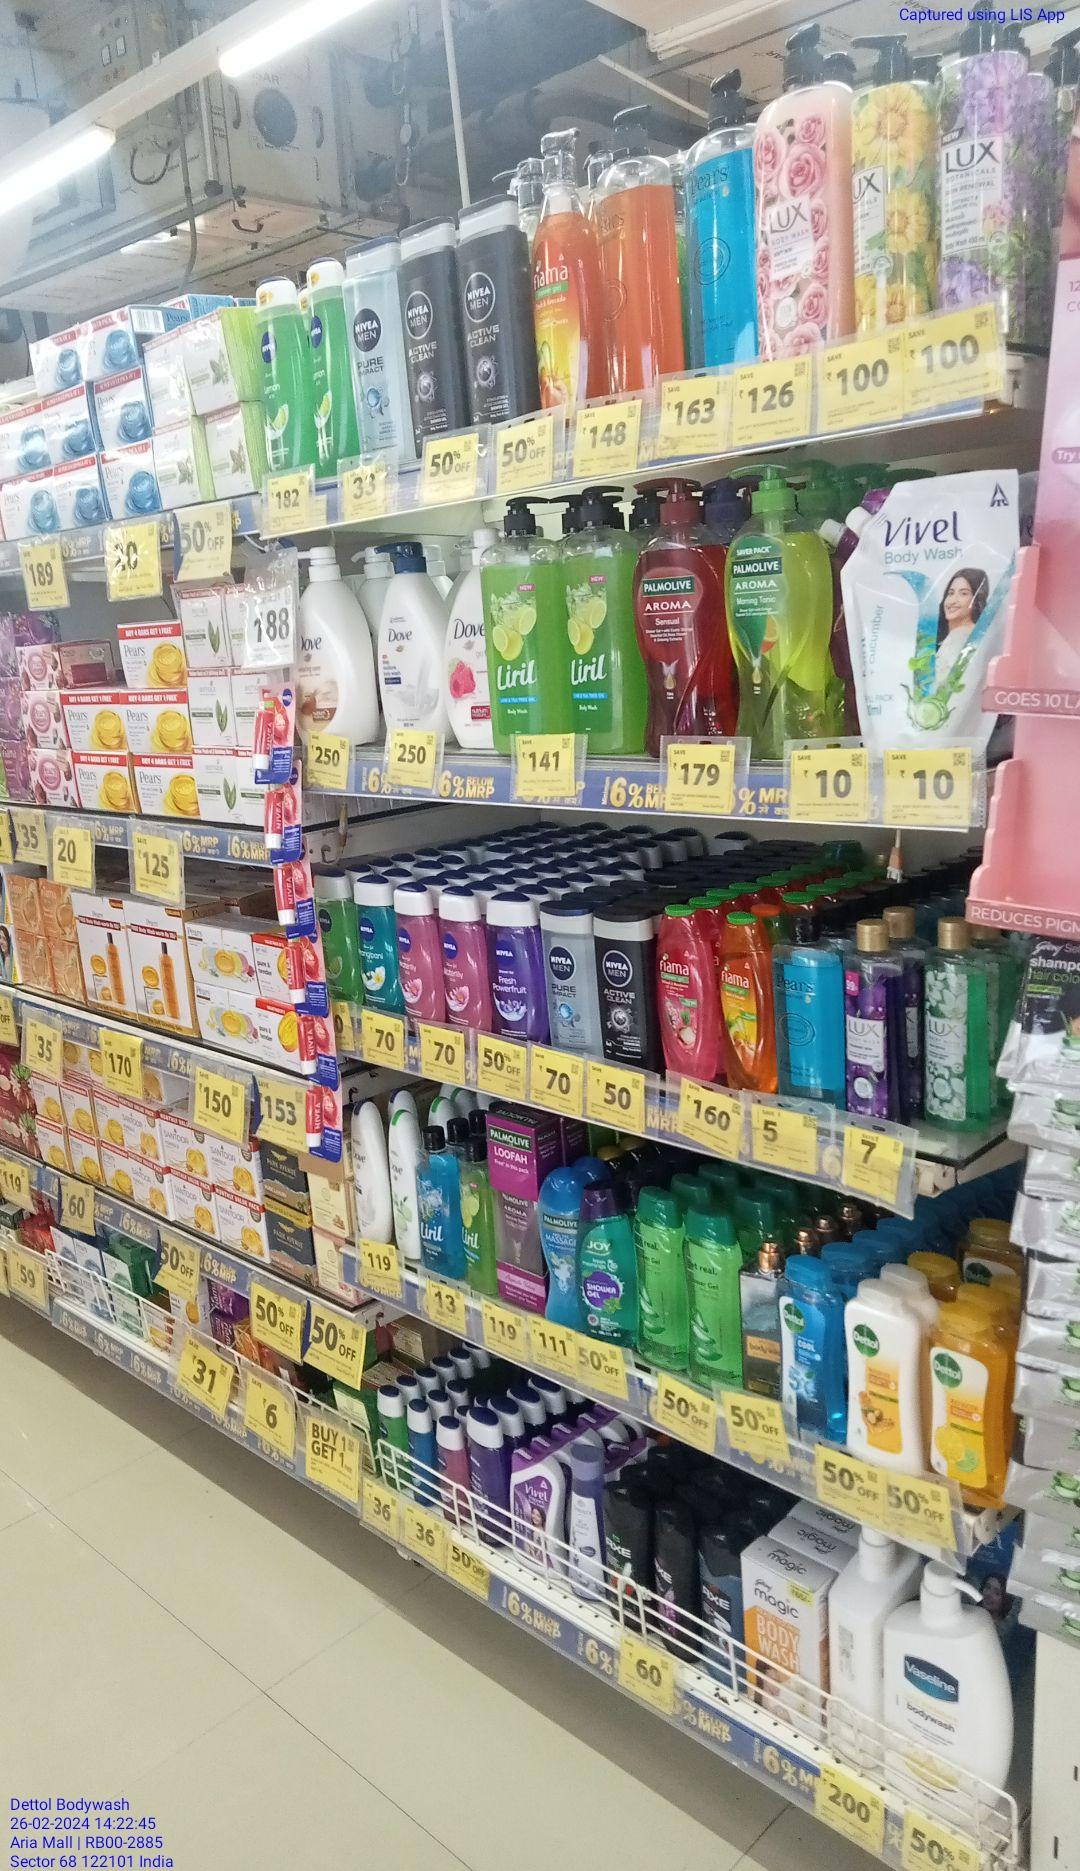Dettol_Bodywash_Cool: (777, 1264, 838, 1450)
Dettol_Bodywash_Refresh: (922, 1307, 994, 1507)
Dettol_Nourish_Body_Wash_250ML: (847, 1280, 917, 1473)
Dove_Refreshing_Body_Wash_250ML: (386, 1108, 418, 1258)
Fiama_Shower_Gel_Patchouli_and_Macadamia_250ML: (657, 907, 714, 1085)
Fiama_Shower_Gel_Peach_and_Avocado_250ML: (719, 914, 766, 1103)
Joy_Shower_Gel_Mint_and_Eucalyptus_250ML: (576, 1184, 635, 1349)
Lux_Black_Orchid_Scent_and_Juniper_Oil_Body_Wash_245ML: (843, 920, 894, 1128)
Lux_Body_Wash_Skin_Detox_Freesia_Scent_and_Alove_Vera_245ML: (922, 918, 978, 1130)
Nivea_Shower_Gel_Frangipani_and_Oil_250ML: (354, 878, 396, 1015)
Nivea_Shower_Gel_Fresh_Powerfruit_250ML: (487, 894, 541, 1041)
Nivea_Shower_Gel_Lemon_and_Oil_250ML: (249, 279, 298, 475), (302, 254, 345, 470)
Nivea_Shower_Gel_Waterlily_and_Oil_250ML: (440, 887, 486, 1033), (397, 882, 438, 1023)
Palmolive_Aroma_Moments_Feel_The_Massage_Shower_Gel_250ML: (537, 1168, 576, 1326)
Pears_Pure_Glycerin_and_Mint_Extracts_Body_Wash_250ML: (771, 911, 841, 1108)
